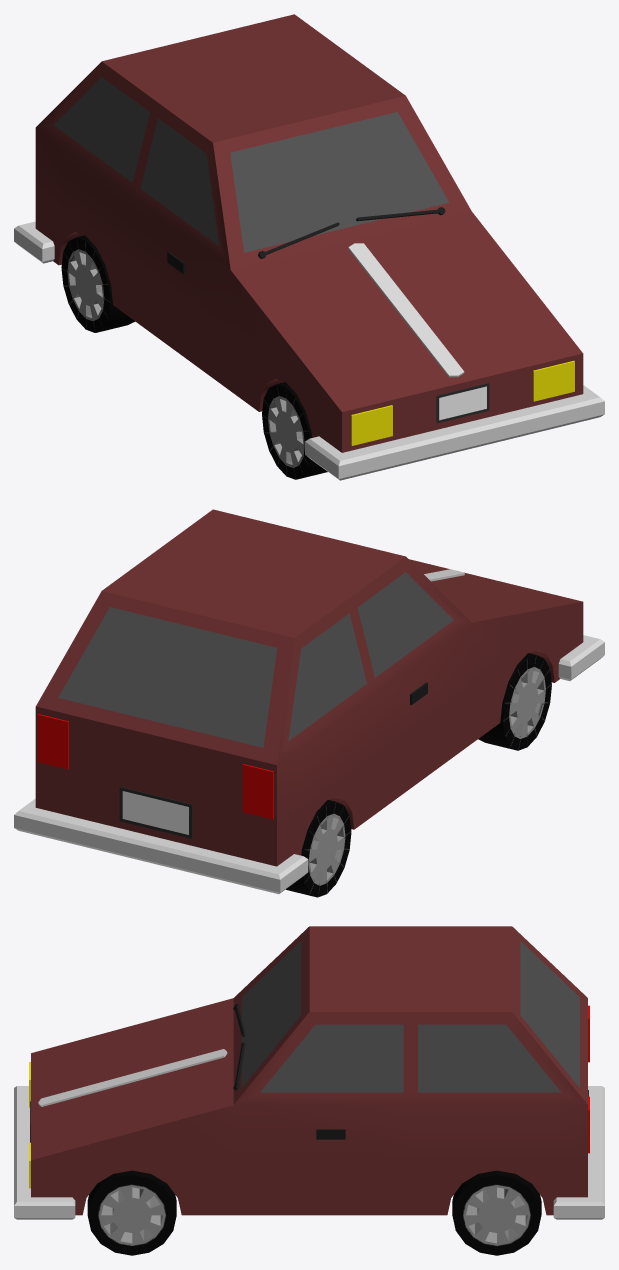
The model's file is Car.fbx.
The picture shows the model from 3 angles, top to bottom: view 1: azimuth 30°, elevation 25°; view 2: azimuth 150°, elevation 25°; view 3: azimuth 270°, elevation 25°; orthographic projection. The views are drawn at different scales.
Visible parts, largest first — view 1: Car; view 2: Car; view 3: Car.
Part boxes in pixels (box(x1,y1,x2,y2)): Car: box(14, 14, 604, 480); Car: box(14, 509, 604, 897); Car: box(14, 926, 604, 1255).
Size of the model in its own units: 276 by 254 by 583.
Materials: 1 (1 with a texture image).
